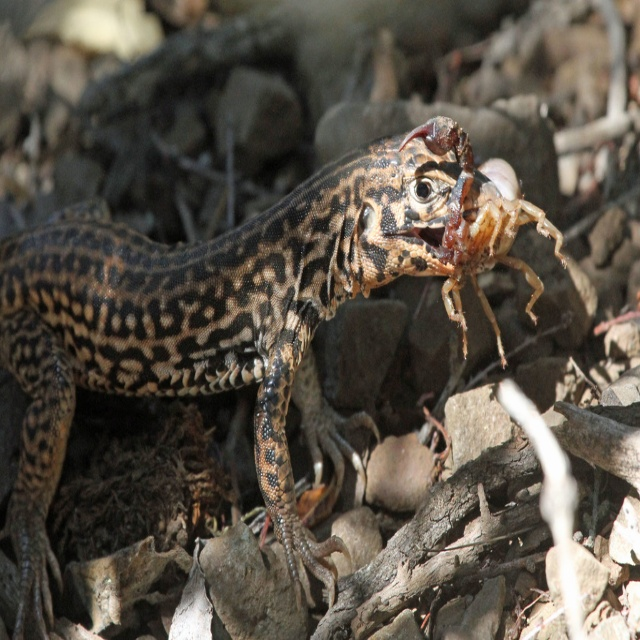Lizard: (0, 127, 505, 639)
